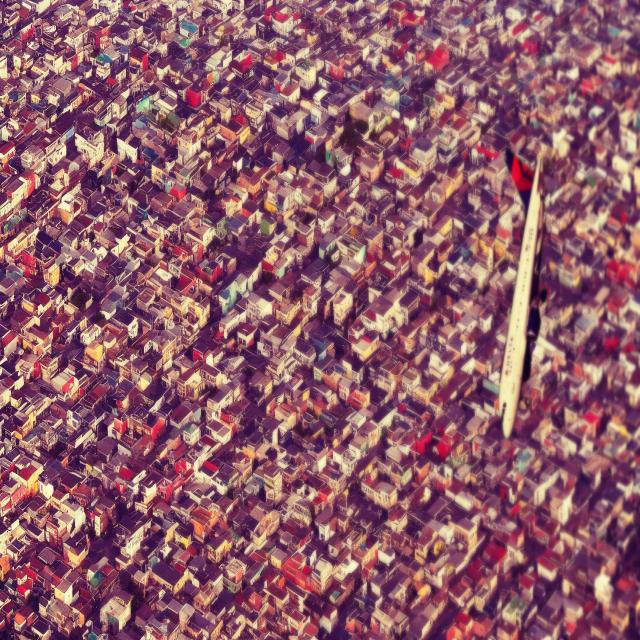airplane: (494, 145, 549, 439)
